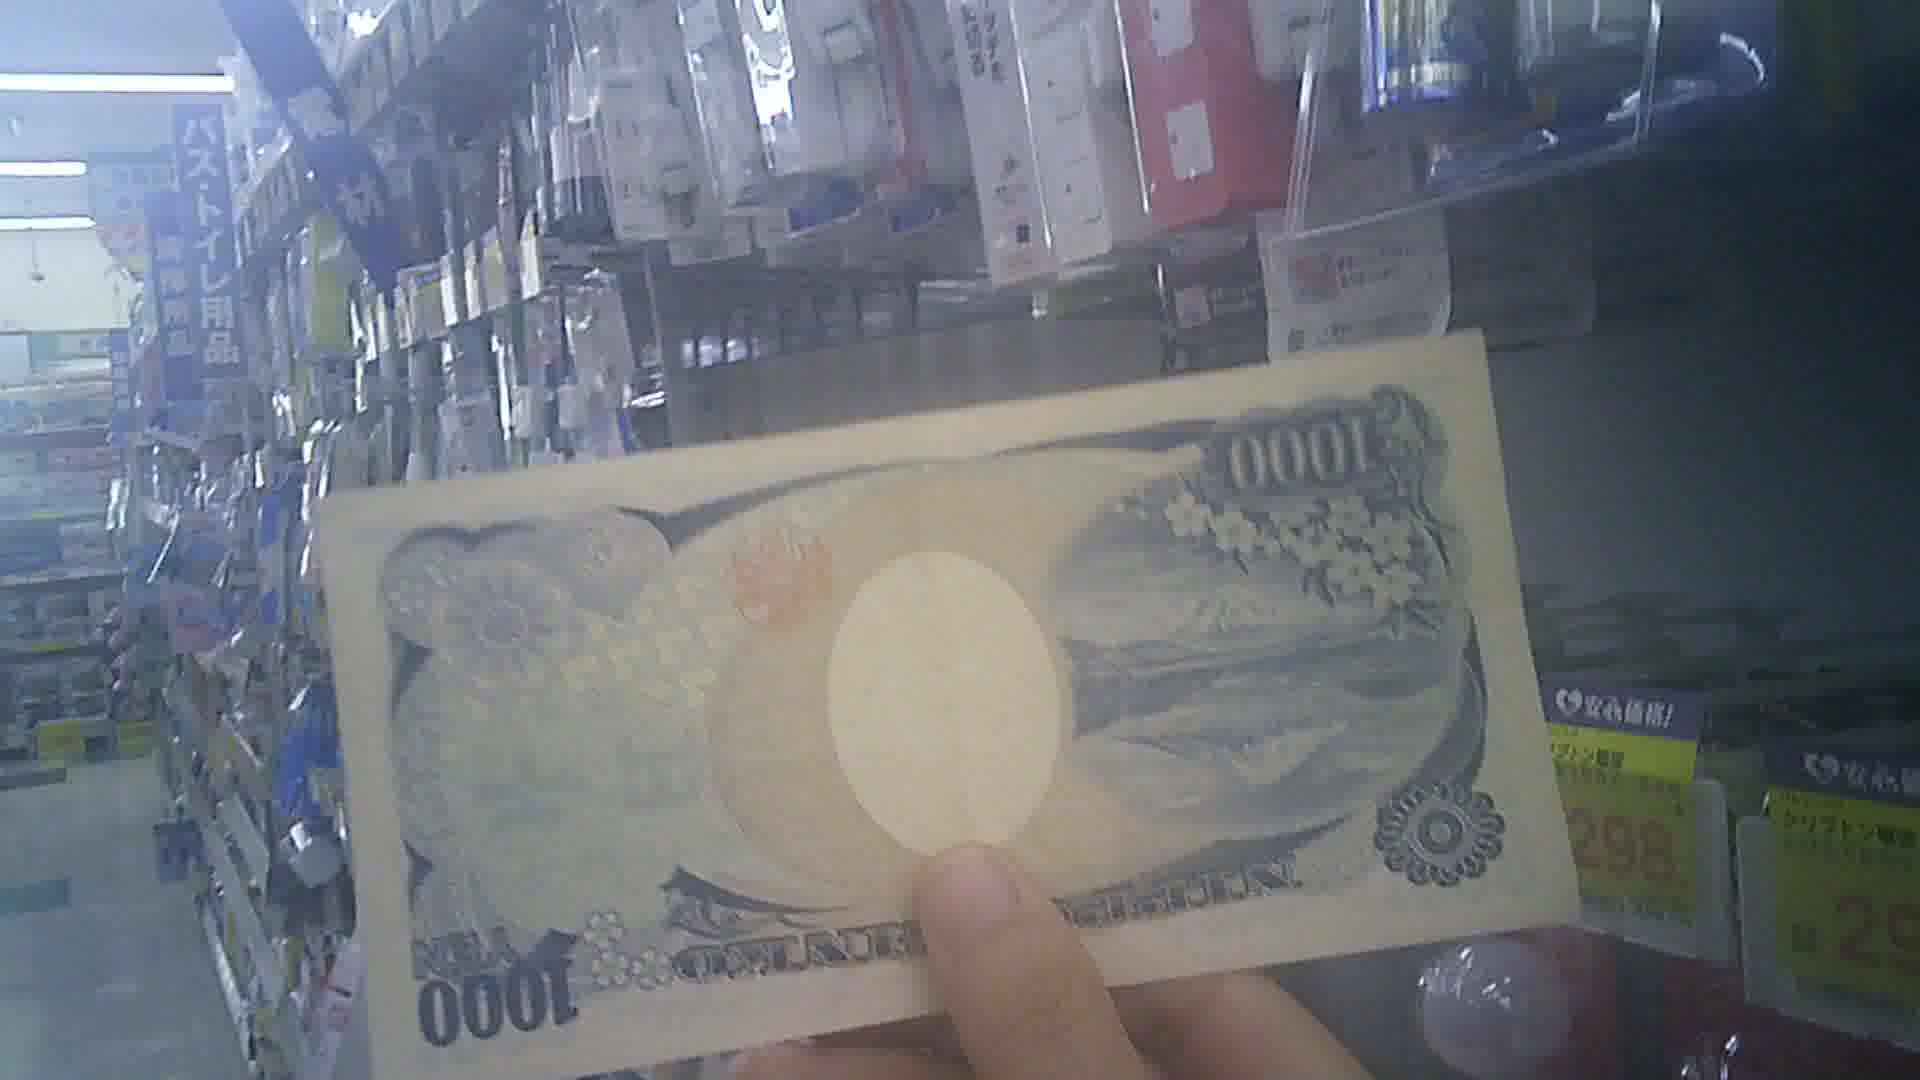1,000 Yen: (305, 340, 1585, 1079)
